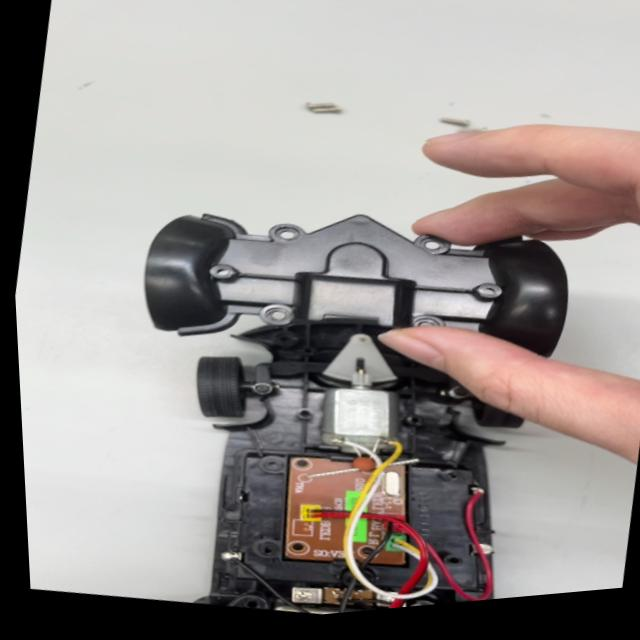motor: (305, 356, 409, 464)
motor_cover: (103, 157, 594, 400)
wheel: (171, 345, 264, 427)
